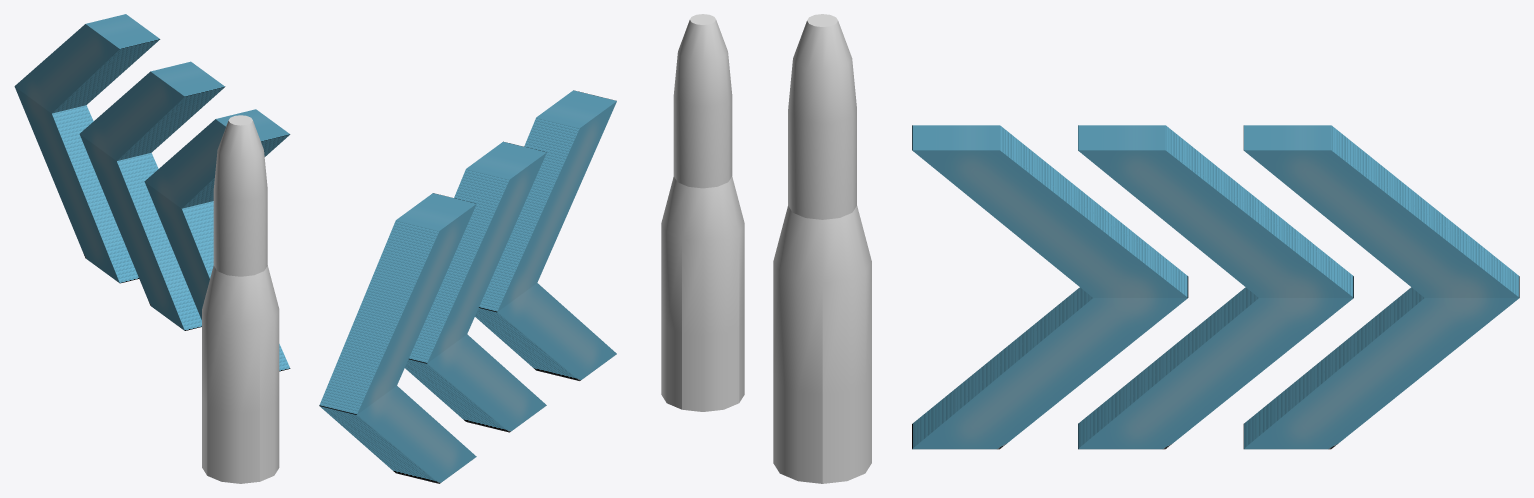
Rendered from M_Bullet Speed Power Up.fbx.
The picture shows the model from 3 angles, left to right: view 1: azimuth 30°, elevation 25°; view 2: azimuth 150°, elevation 25°; view 3: azimuth 270°, elevation 25°; orthographic projection. The views are drawn at different scales.
Visible parts, largest first — view 1: Speed Boost, Bullet Bottom Part, Bullet Top part; view 2: Speed Boost, Bullet Bottom Part, Bullet Top part; view 3: Speed Boost, Bullet Bottom Part, Bullet Top part.
Boxes of the visible parts, x1,y1,x2,y2 form: Speed Boost: [14, 14, 290, 371]; Bullet Bottom Part: [202, 265, 279, 483]; Bullet Top part: [213, 115, 267, 276]; Speed Boost: [319, 90, 616, 483]; Bullet Bottom Part: [661, 176, 744, 411]; Bullet Top part: [673, 14, 732, 188]; Speed Boost: [912, 125, 1519, 449]; Bullet Bottom Part: [773, 205, 871, 483]; Bullet Top part: [788, 14, 856, 219].
Size of the model in its own units: 449 by 1259 by 1925.
